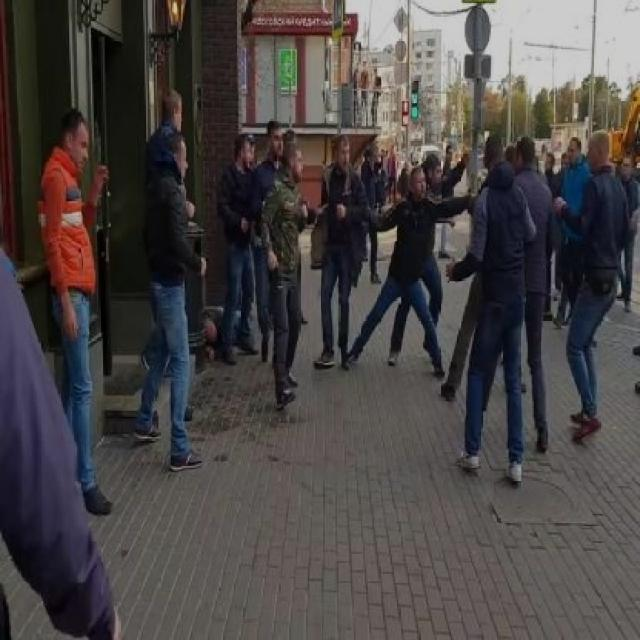fight: (348, 132, 555, 482)
non-fight: (20, 100, 120, 514), (120, 123, 215, 475), (546, 125, 637, 442), (258, 144, 316, 414)
